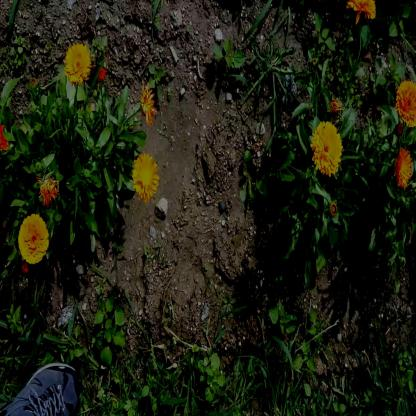marigold: (313, 119, 342, 171), (18, 216, 46, 264), (131, 152, 158, 198), (62, 42, 92, 82), (397, 80, 416, 124), (394, 147, 412, 183), (0, 123, 11, 154)
